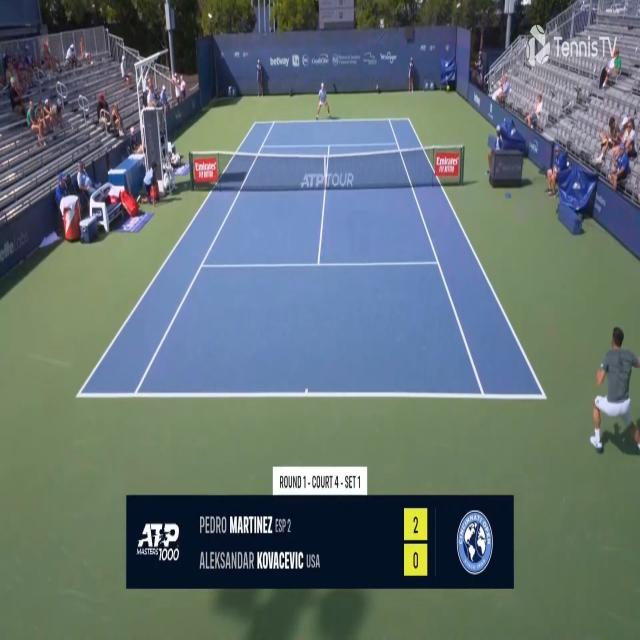tennis-player: (589, 320, 640, 460), (315, 80, 334, 121)
